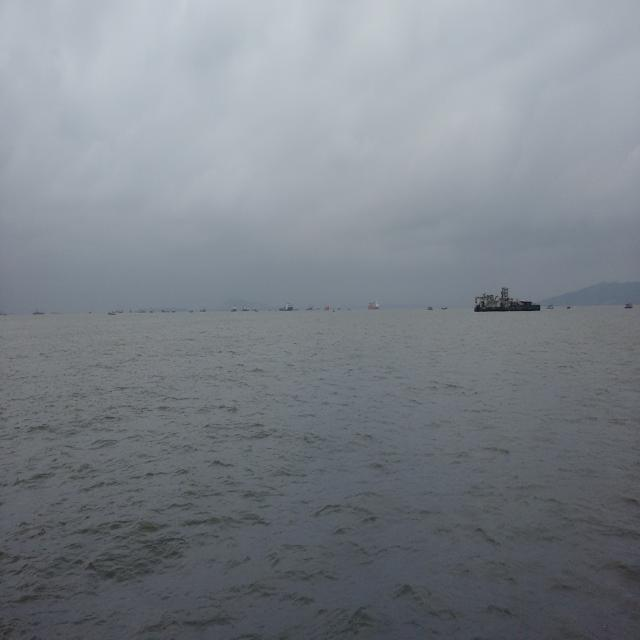cargoship: (473, 279, 542, 314)
